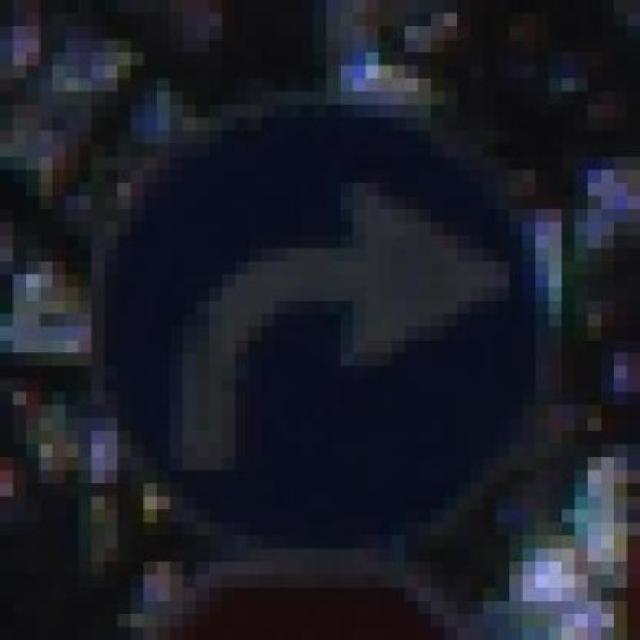Turn right ahead: (90, 65, 562, 562)
